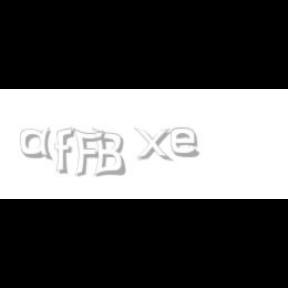B: (92, 128, 126, 178)
F: (73, 128, 105, 178)
a: (20, 128, 57, 160)
e: (171, 128, 204, 158)
f: (54, 128, 78, 174)
x: (134, 128, 176, 162)
